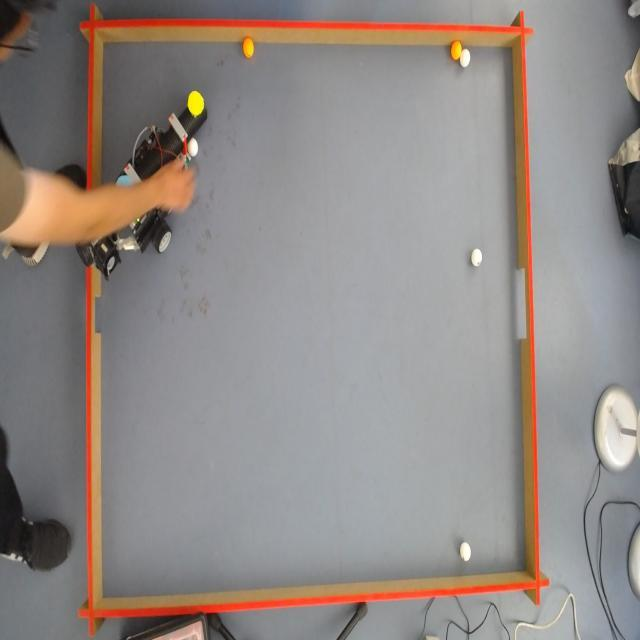orange: (242, 38, 254, 60), (450, 40, 462, 60)
robot: (78, 194, 172, 288)
robot-front: (188, 91, 204, 115)
robot-rear: (116, 174, 132, 187)
white: (188, 136, 198, 157), (472, 246, 482, 266), (462, 542, 472, 562), (460, 48, 470, 68)
